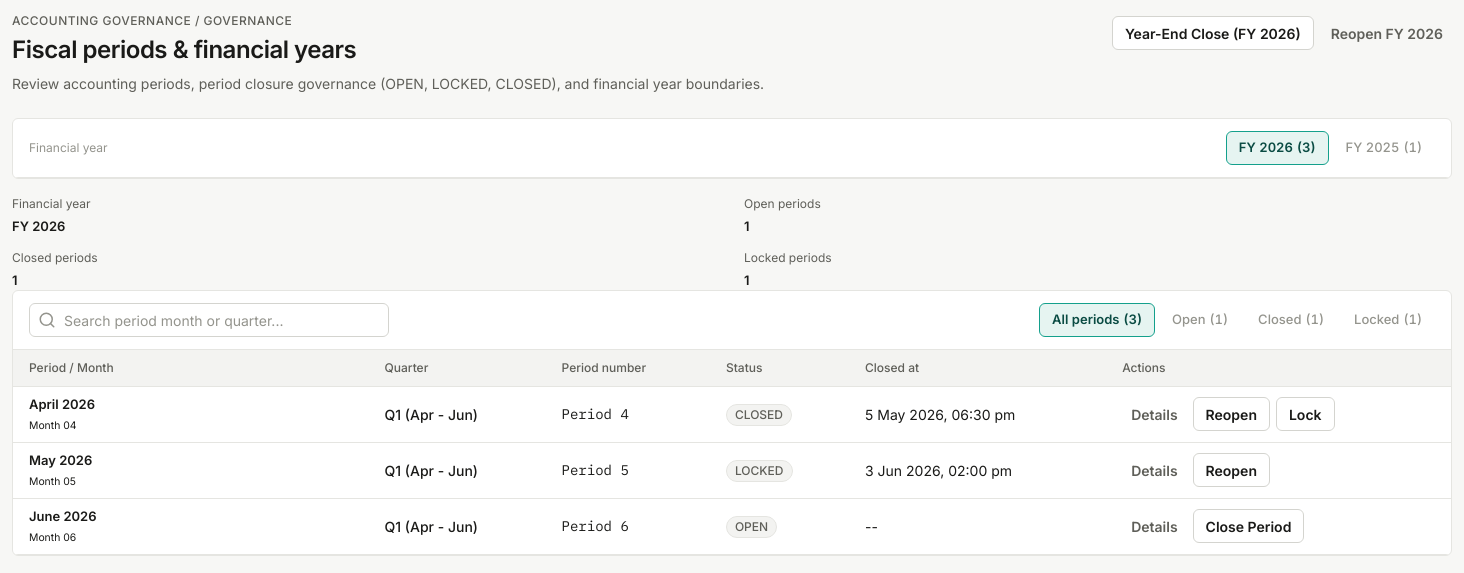
Test: FiscalPeriodsPage › filters periods by status tabs within the active year
The image size is (1464, 573).
Expected: the text "April 2026" is shown, [29,396,95,412]
// Filter to Open only
Click the tab "Open (1)" at point(1200, 320), box [1159,303,1241,337]
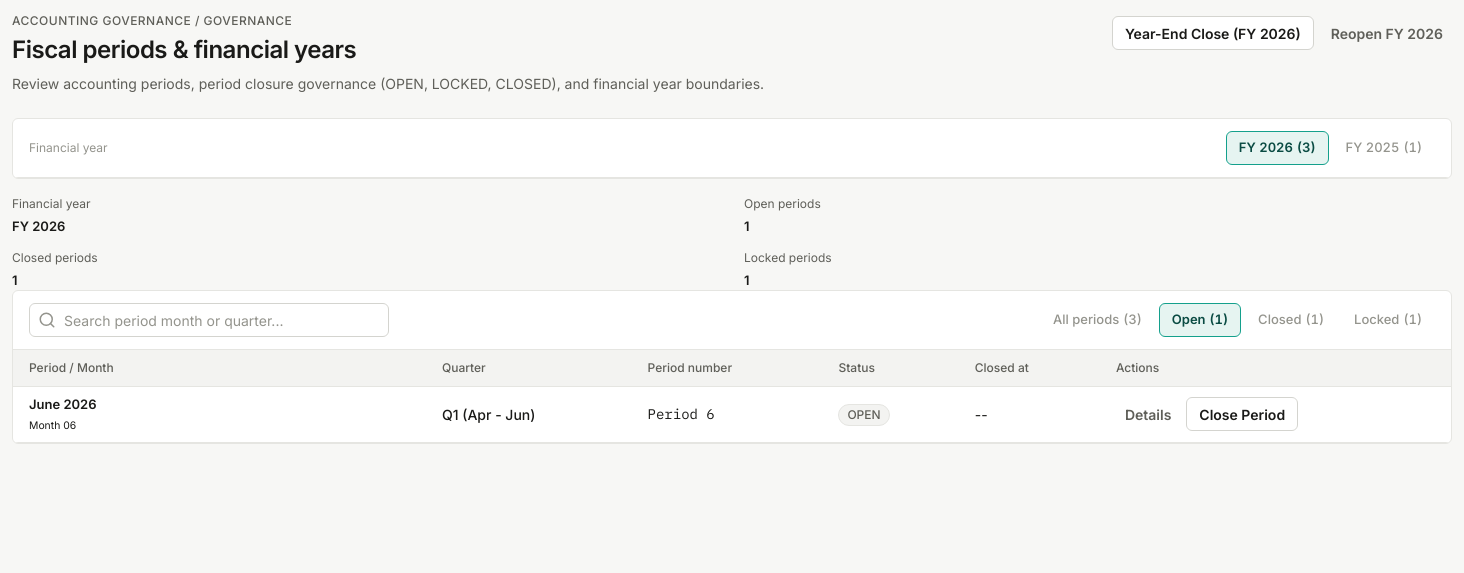
Expected: the text "June 2026" is shown, [29,396,96,412]
Result: the text "April 2026" is gone
Result: the text "May 2026" is gone
